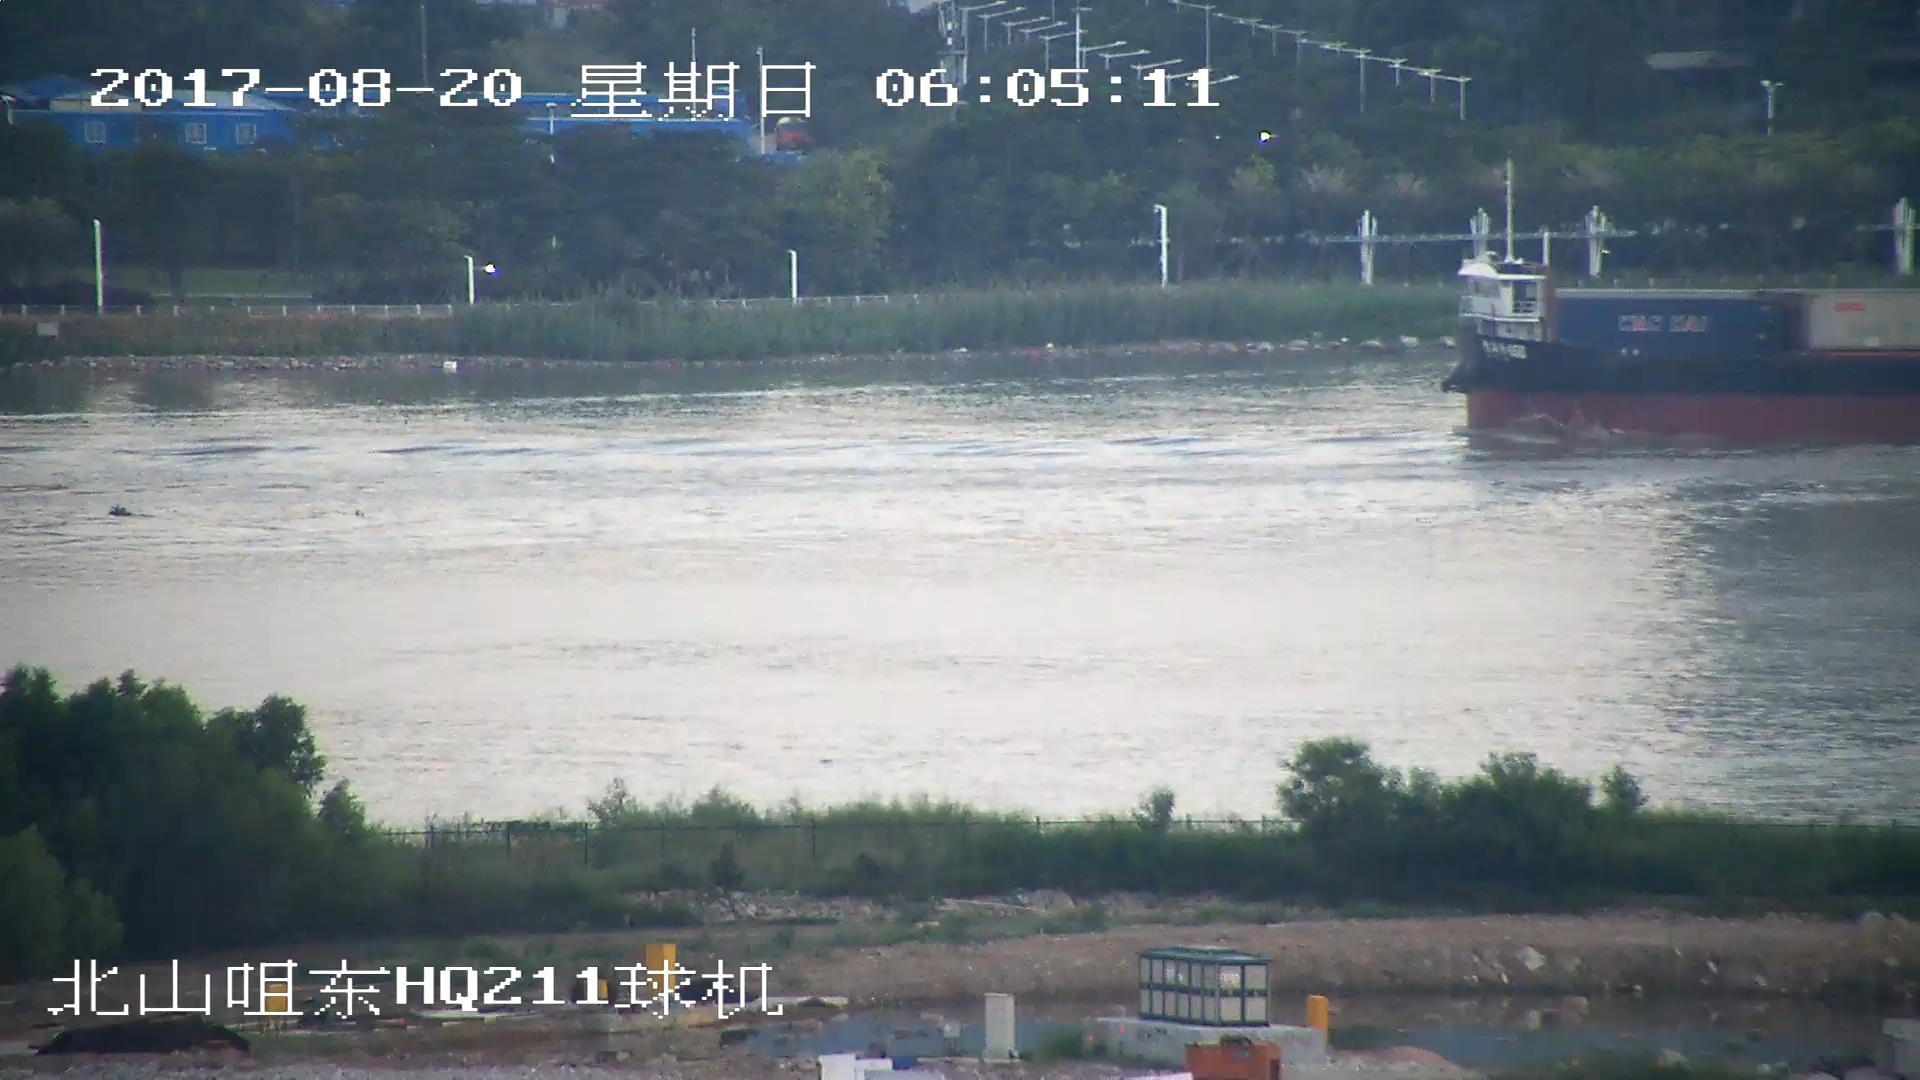container ship: (1442, 246, 1920, 430)
